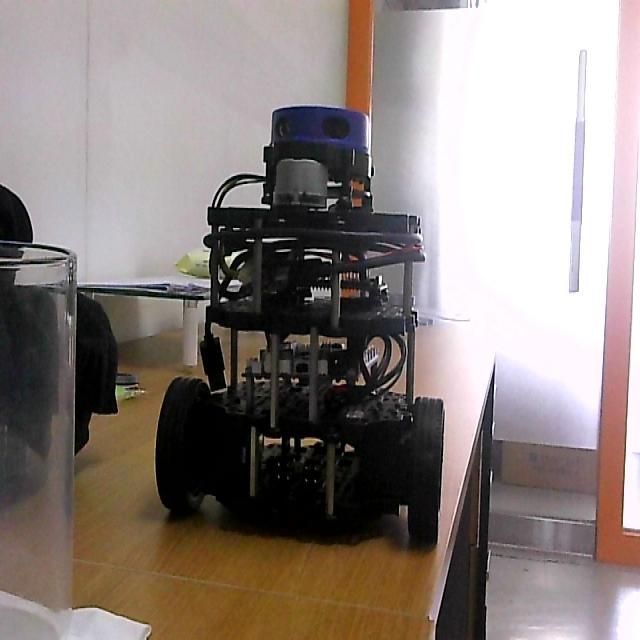turtle: (154, 104, 446, 556)
